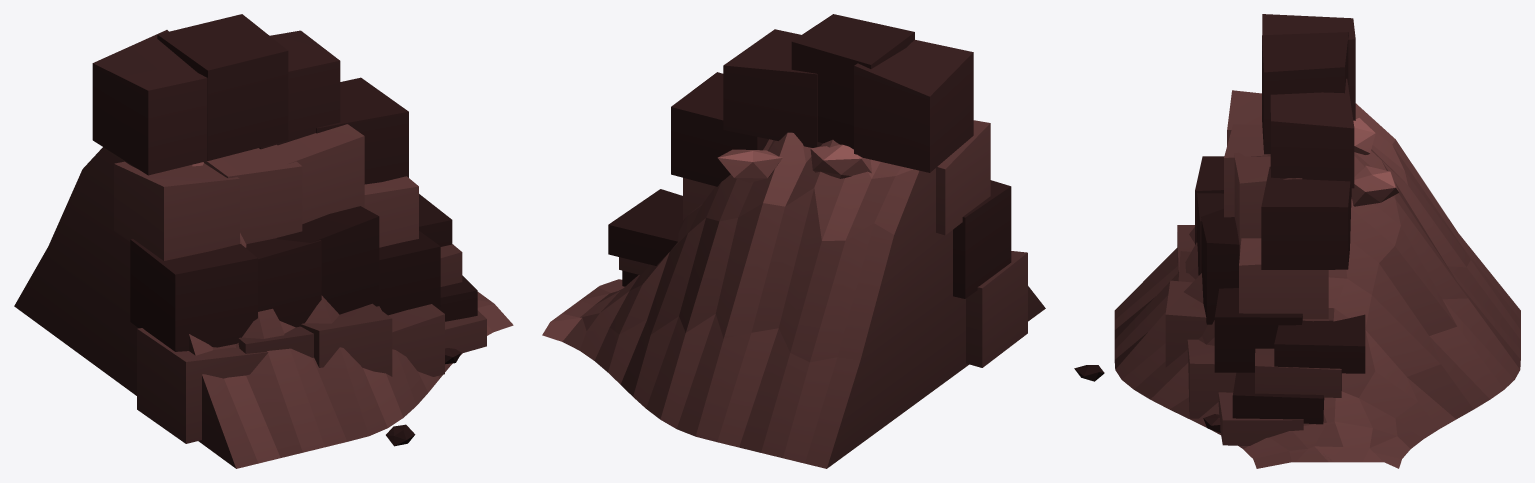
Rendered from cliff-fulgora-exit.glb.
3 views of the same model, side by side, from view 1: azimuth 30°, elevation 25°; view 2: azimuth 150°, elevation 25°; view 3: azimuth 270°, elevation 25° (orthographic). The views are drawn at different scales.
Visible parts, largest first — view 1: cliff-fulgora-exit; view 2: cliff-fulgora-exit; view 3: cliff-fulgora-exit.
Part boxes in pixels (x1,y1,x2,y2): cliff-fulgora-exit: [14, 14, 513, 468]; cliff-fulgora-exit: [542, 14, 1045, 468]; cliff-fulgora-exit: [1074, 14, 1520, 468].
Size of the model in its own units: 3.15 by 2.67 by 3.57.
